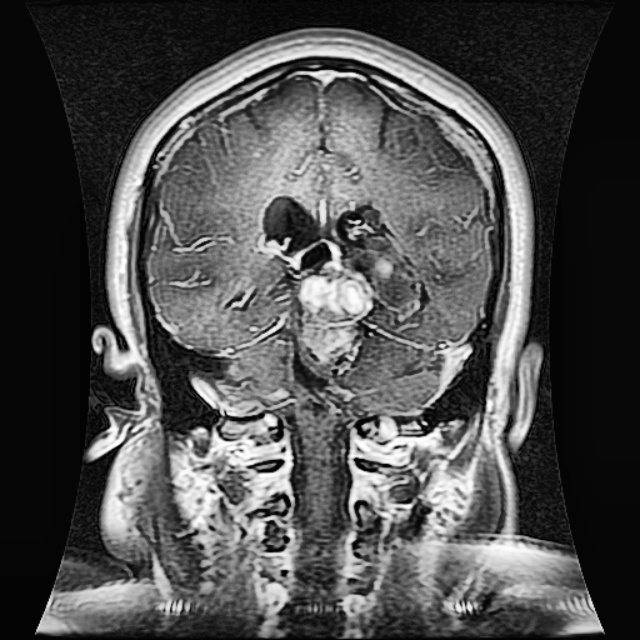Meningioma: (292, 202, 422, 379)
